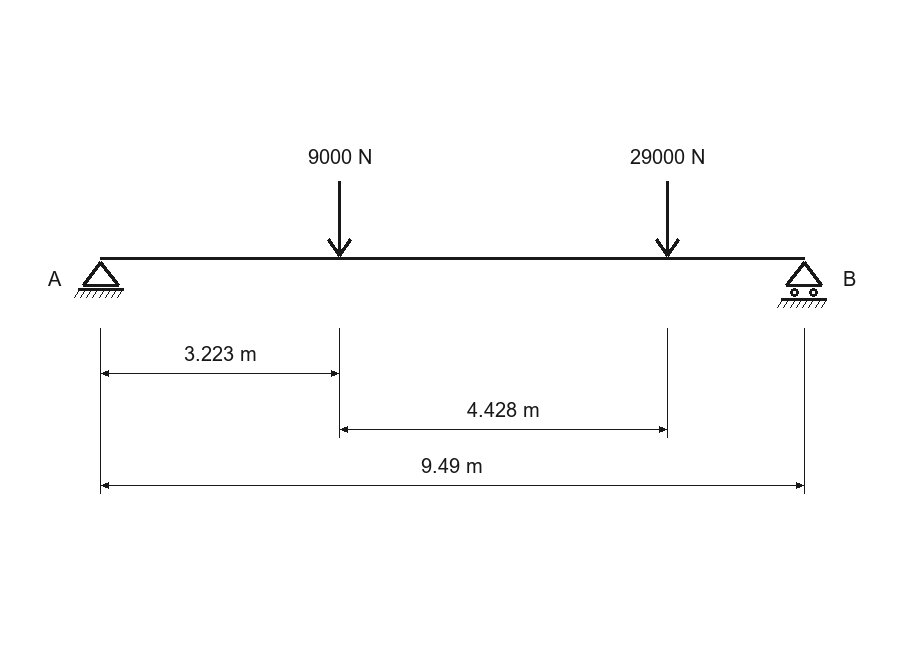pin_support: (74, 261, 124, 298)
point_load: (327, 181, 352, 257), (655, 181, 680, 257)
roller_support: (777, 261, 827, 308)
